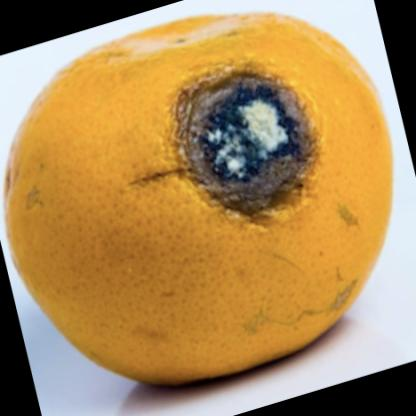rotten: (7, 18, 395, 387)
